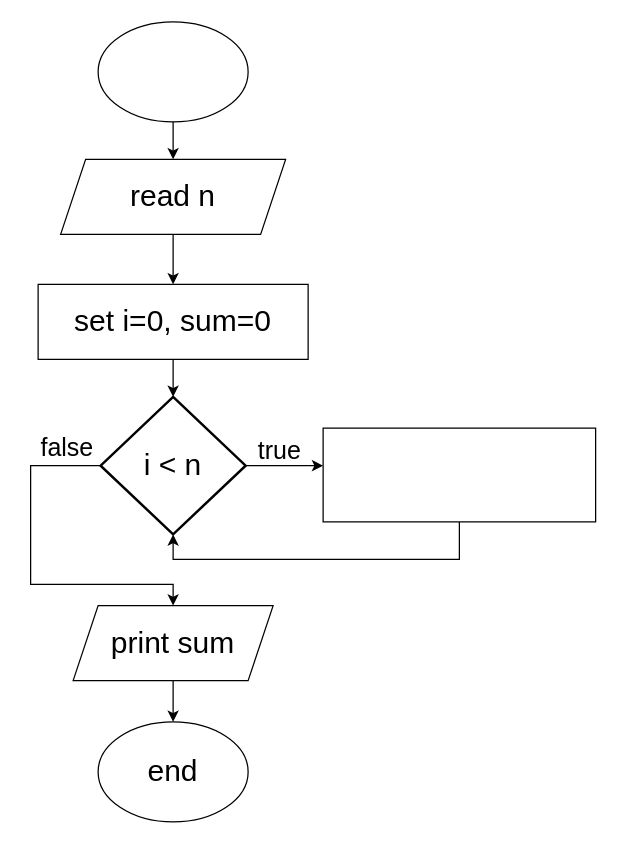
Image size: 618x844. Some labels were removed from this diagram. Here are the shapes that lost their labels. From the top down, the centre of each, then its label:
At (172,71): "start".
At (459,474): "set sum=sum+(i*i) set i=i+1".
